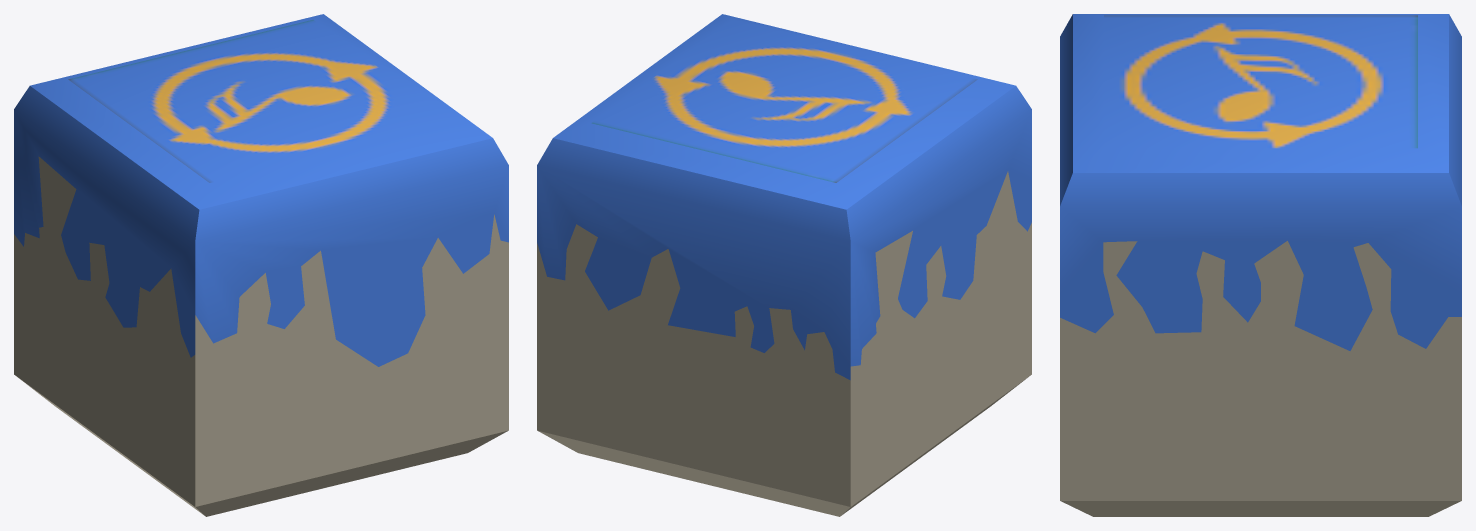
The model's file is Stare_Cube.fbx.
The picture shows the model from 3 angles, left to right: view 1: azimuth 30°, elevation 25°; view 2: azimuth 150°, elevation 25°; view 3: azimuth 270°, elevation 25°; orthographic projection. The views are drawn at different scales.
Visible parts, largest first — view 1: Cube.004; view 2: Cube.004; view 3: Cube.004.
Part boxes in pixels (x1,y1,x2,y2): Cube.004: (14,14,508,516); Cube.004: (537,14,1031,516); Cube.004: (1060,14,1461,516).
Bounding box in the file's own units: 100 × 100 × 100.
